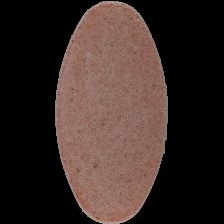63629-2908: (0, 0, 224, 224)
